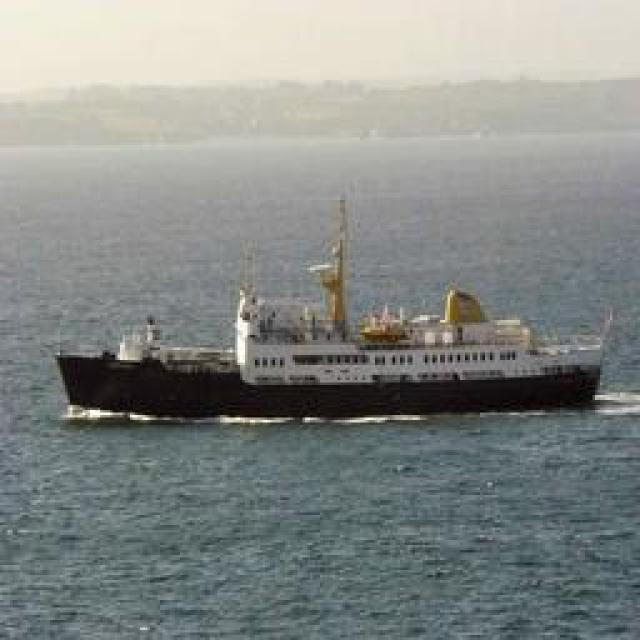CIV_Ship: (56, 270, 606, 415)
